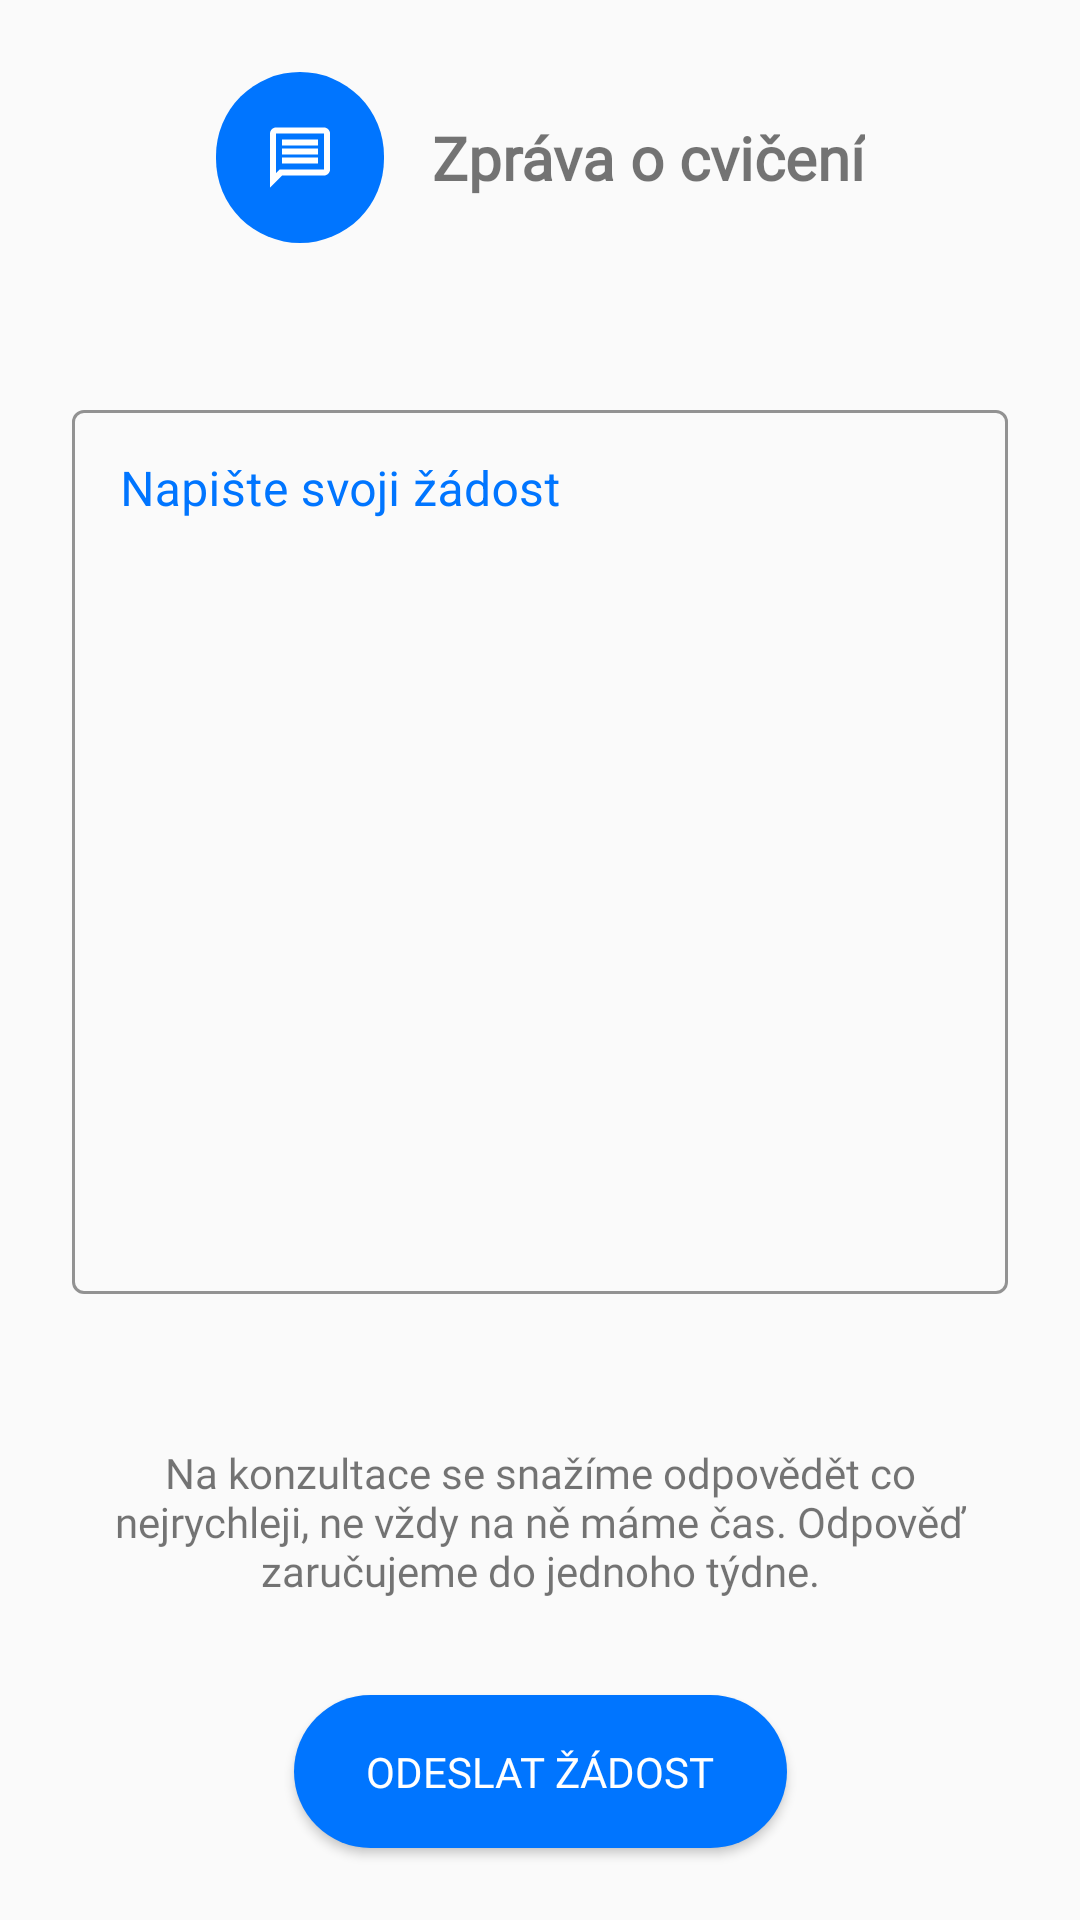

Icon click points for this 1080*1920 phone screenshot, format (x=x, y=y):
message: (x=300, y=157)
